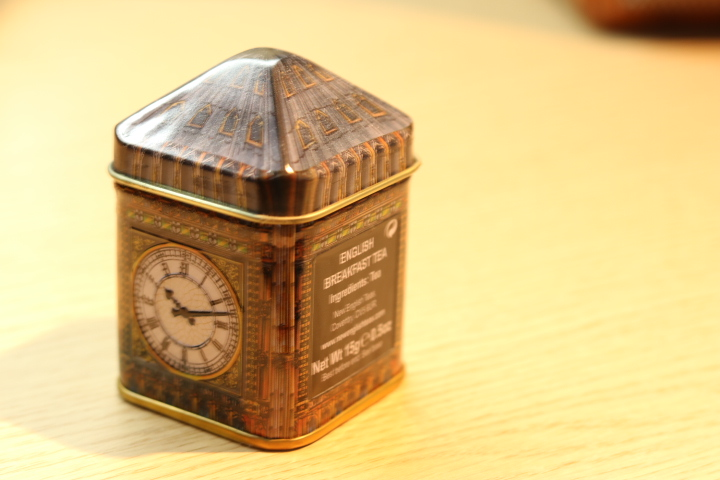Big Ben: (86, 35, 431, 458)
